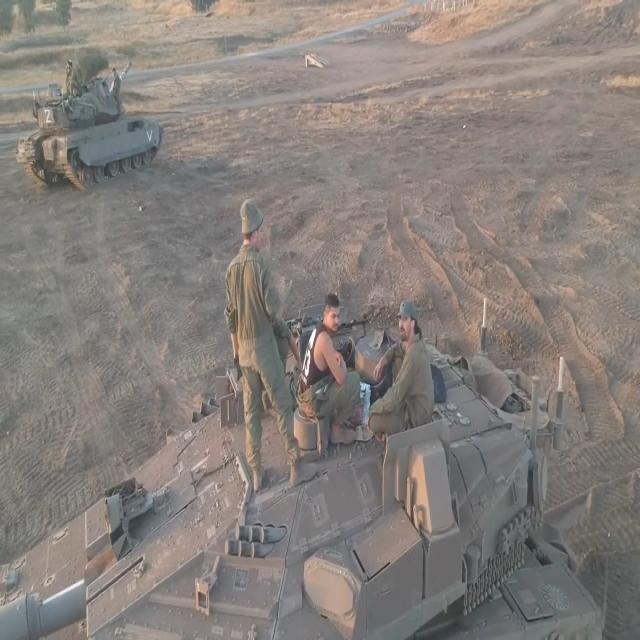tank: (9, 53, 176, 198)
